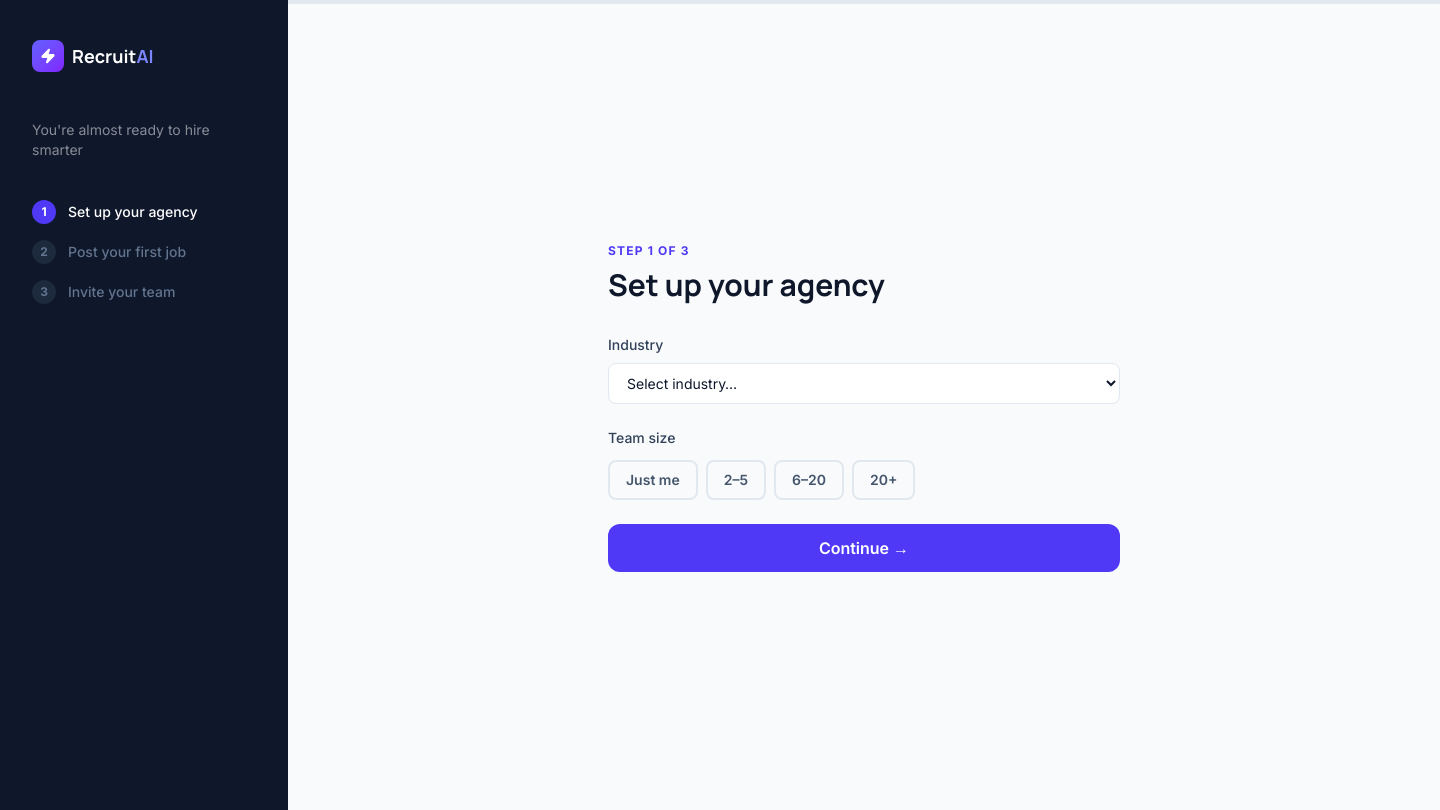
Test: OnboardingPage › advances to step 2 on Continue
Click the button "Continue →" at {"x": 864, "y": 548}, box [608,524,1120,572]
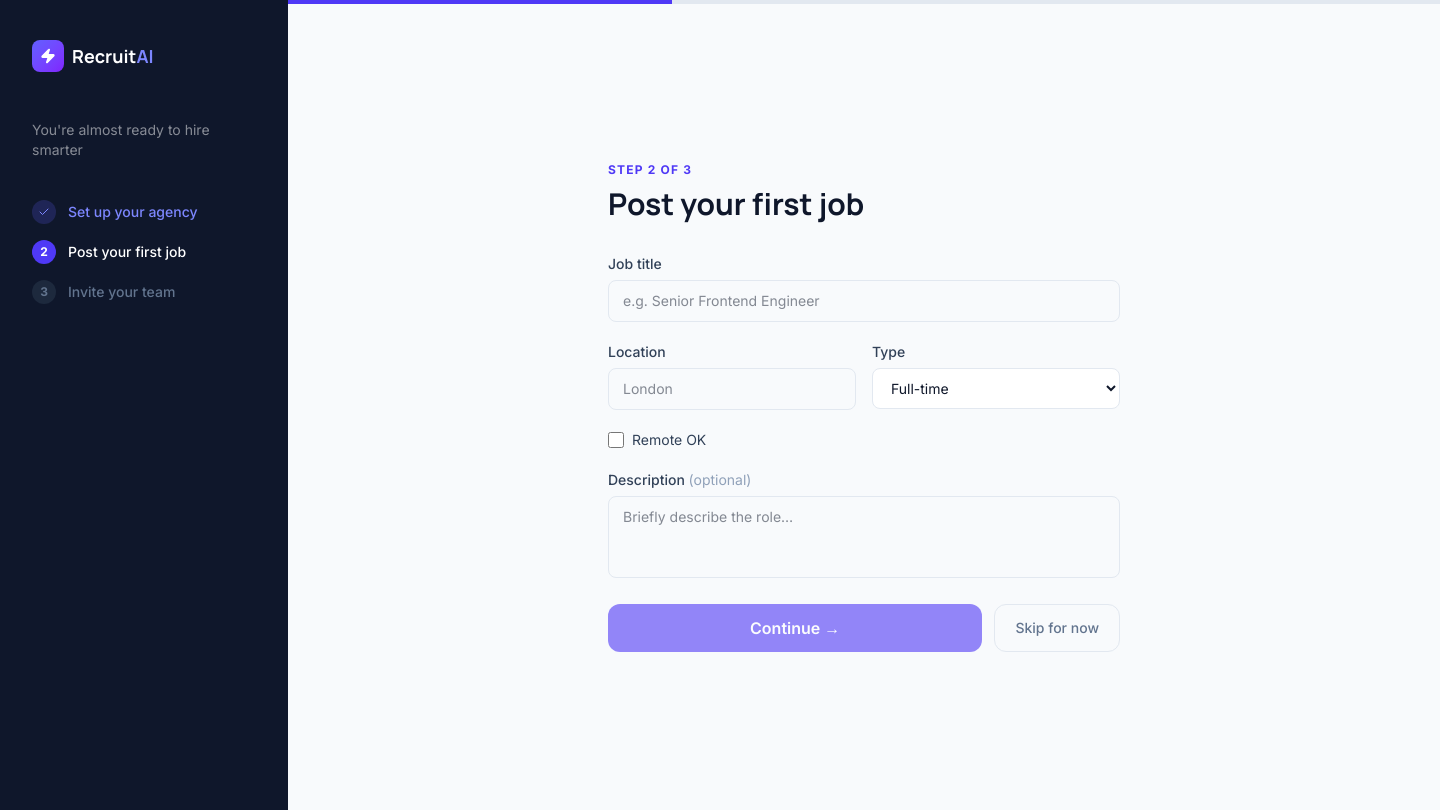
Now the heading "Post your first job" is shown, box [608,183,864,224]
